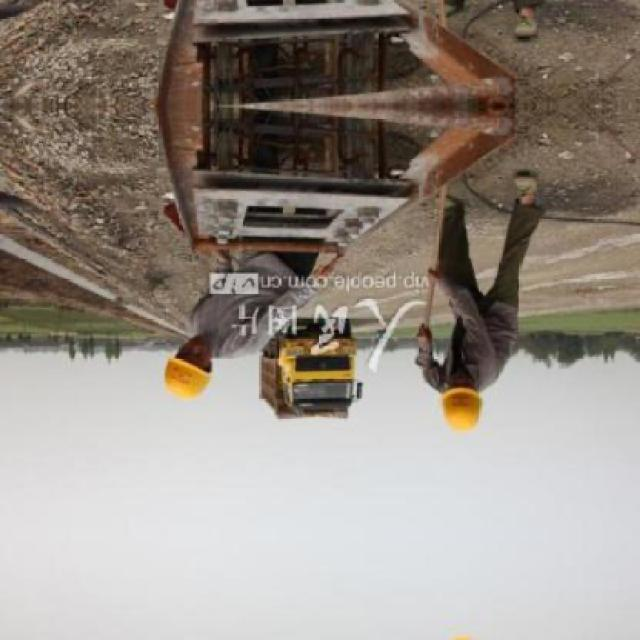con casco: (379, 316, 499, 449), (124, 316, 251, 428)
